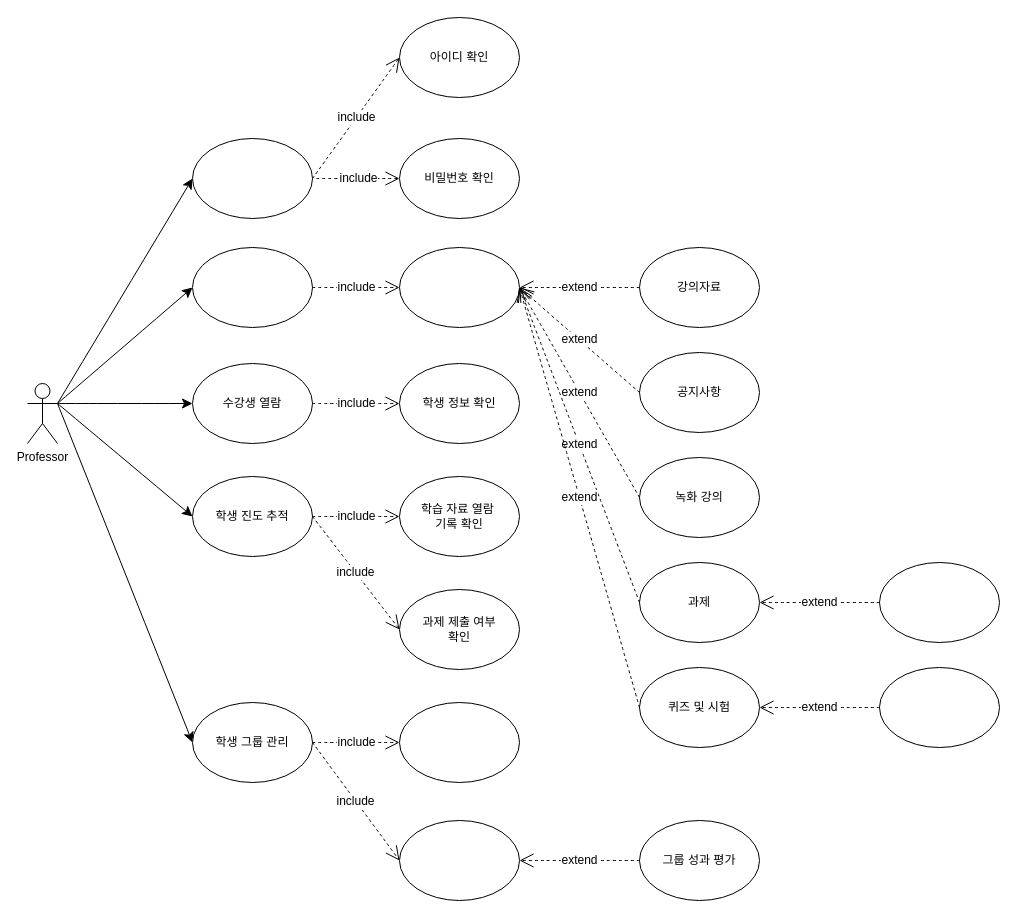
Some shapes in this 1017 by 918 pixel diagram are drawn without their labels. Here are the shapes that lost their labels. From the top down, the centre of each, then its label:
point 252,178: 로그인
point 252,287: 강의 과목 게시판 설정
point 459,287: 업로드
point 939,602: 과제 채점 및 피드백 제공
point 939,707: 퀴즈/시험 채점 및 피드백 제공
point 459,742: 그룹 별 과제 설정
point 459,860: 그룹 별 성적 확인
